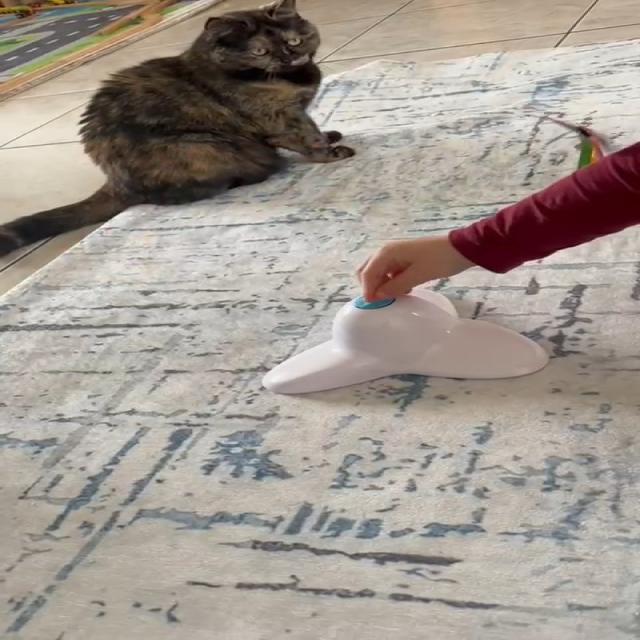authorized: (0, 0, 355, 258)
